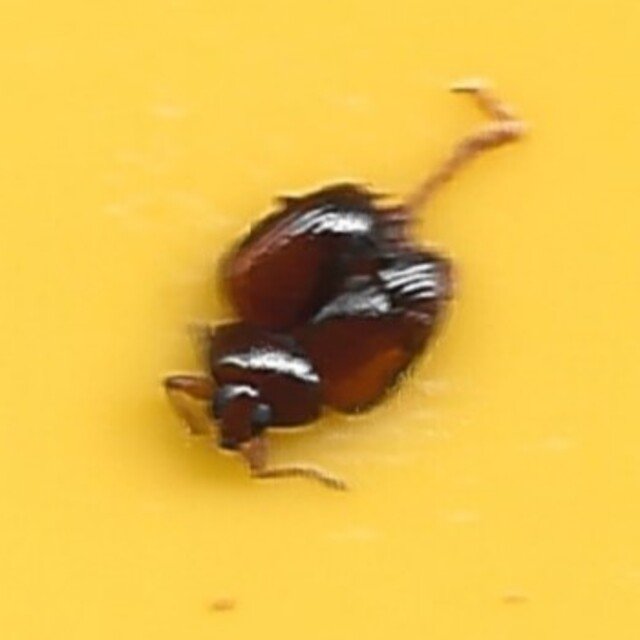Coleoptera: (183, 181, 457, 459)
